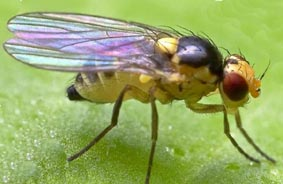Trifoli: (6, 12, 273, 169)
